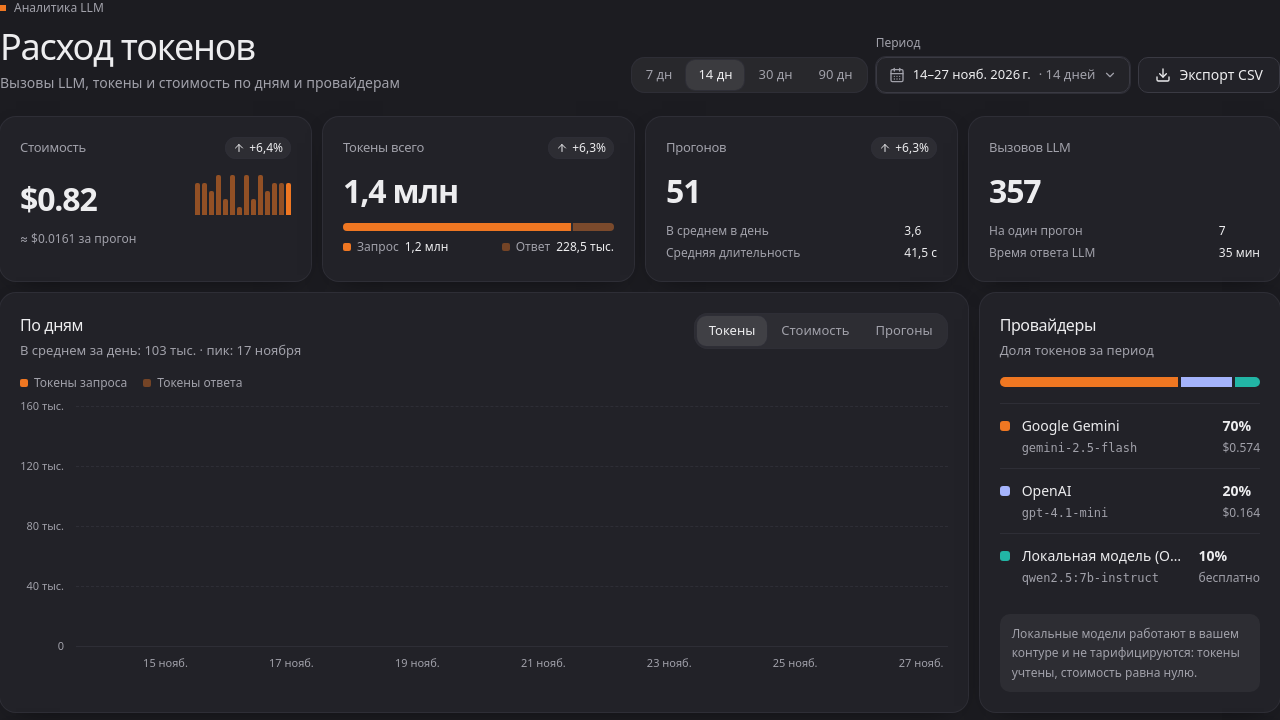
UsagePage › applies a preset from the calendar
The image size is (1280, 720).
Click the button named "Период" at (1003, 75), box [876,57,1130,93]
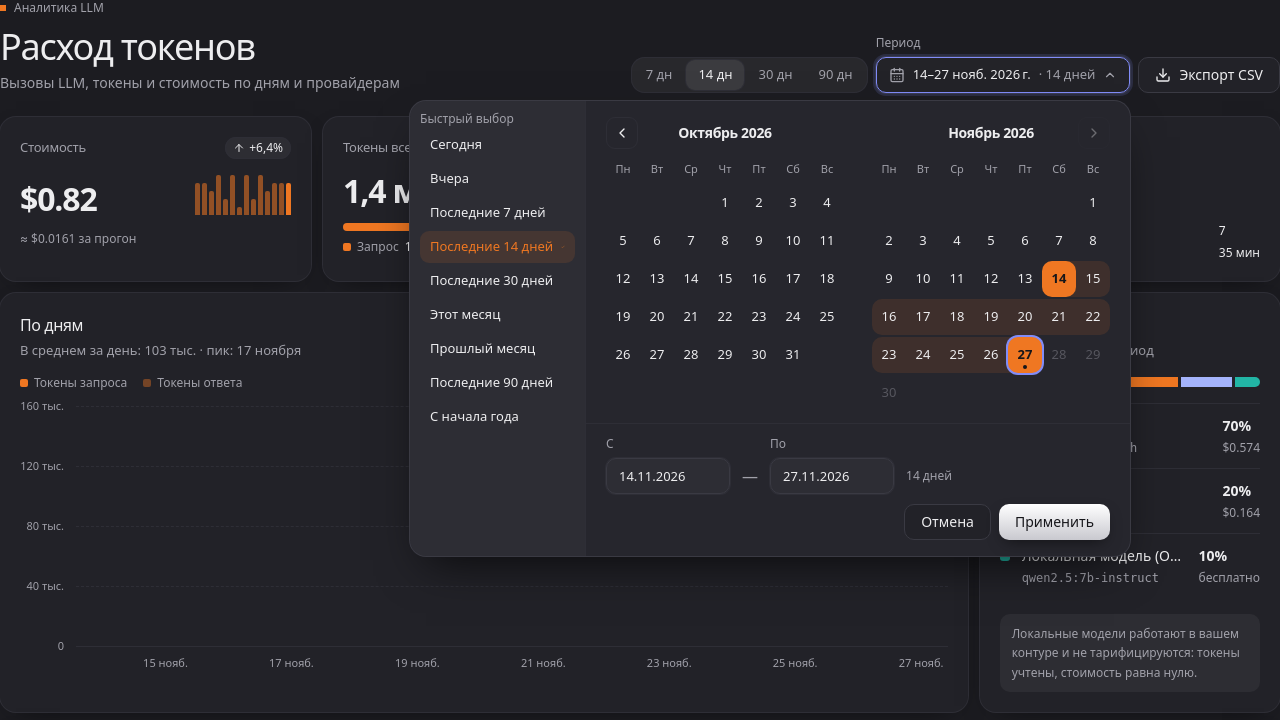
Click the button "Последние 7 дней" at (498, 213), box [420,197,575,229]
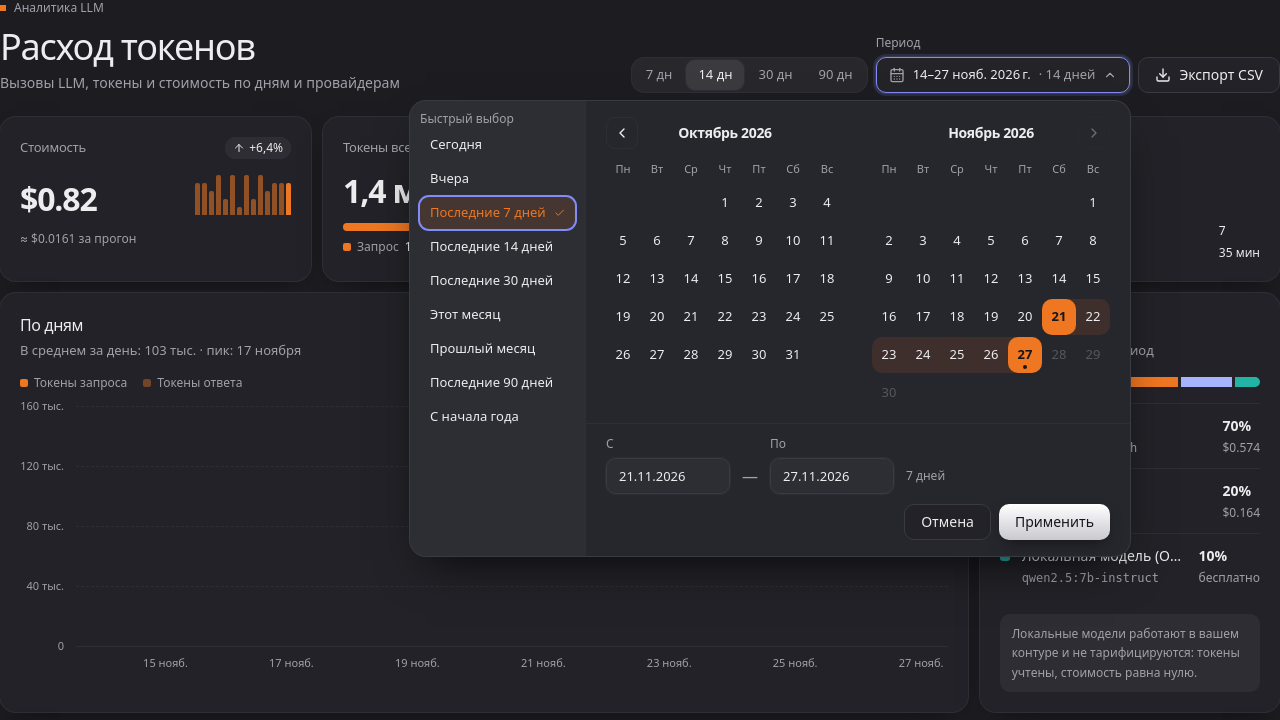
Expected: the button "Последние 7 дней" is pressed, [420,197,575,229]
Click the button "Применить" at (1054, 522), box [999,504,1110,540]
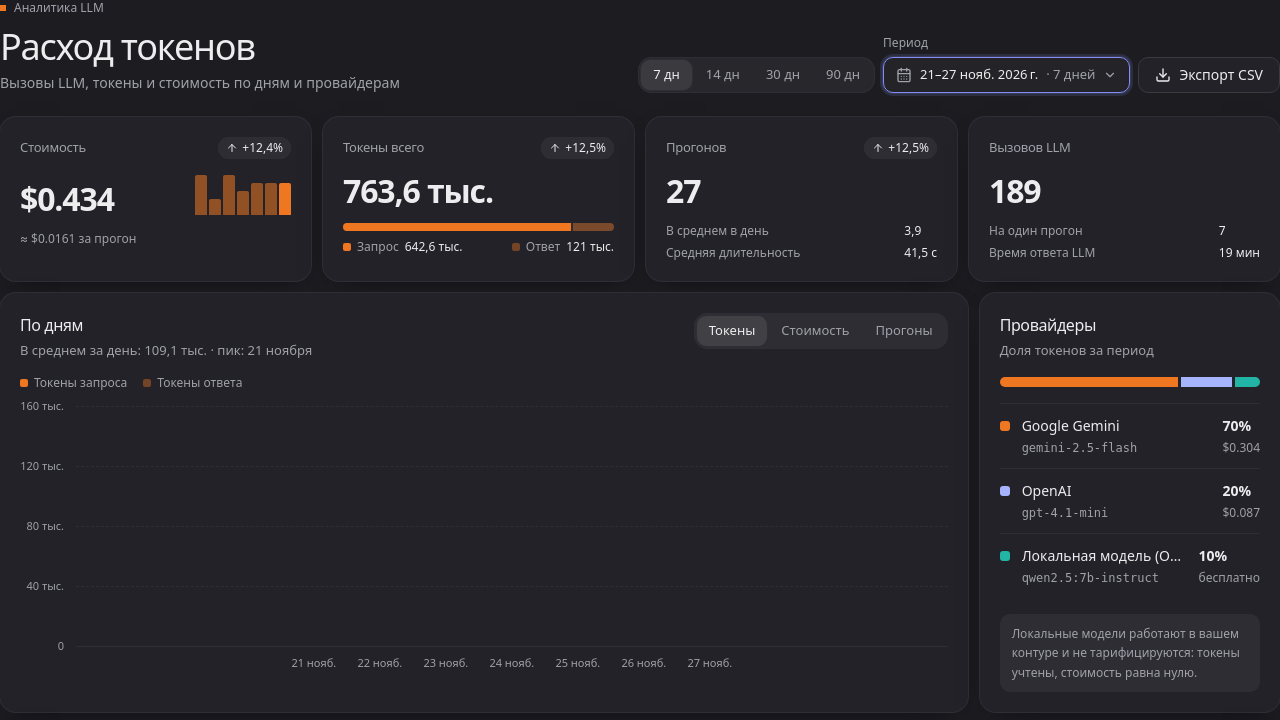
Expected: the dialog is gone
